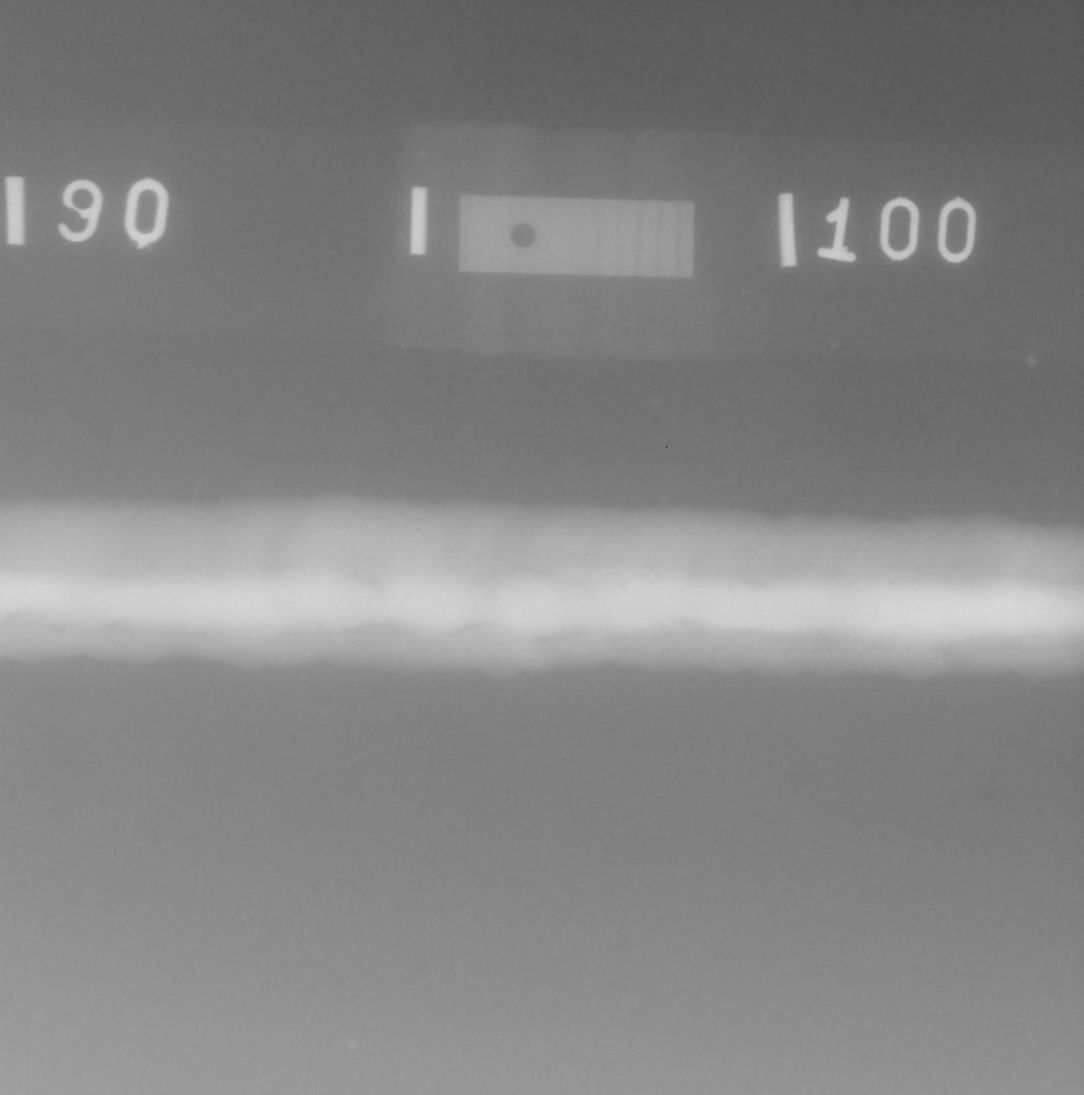Pore/Porosity: (618, 580, 628, 588), (746, 627, 753, 634)
Reference Standard 1: (458, 194, 696, 279)
